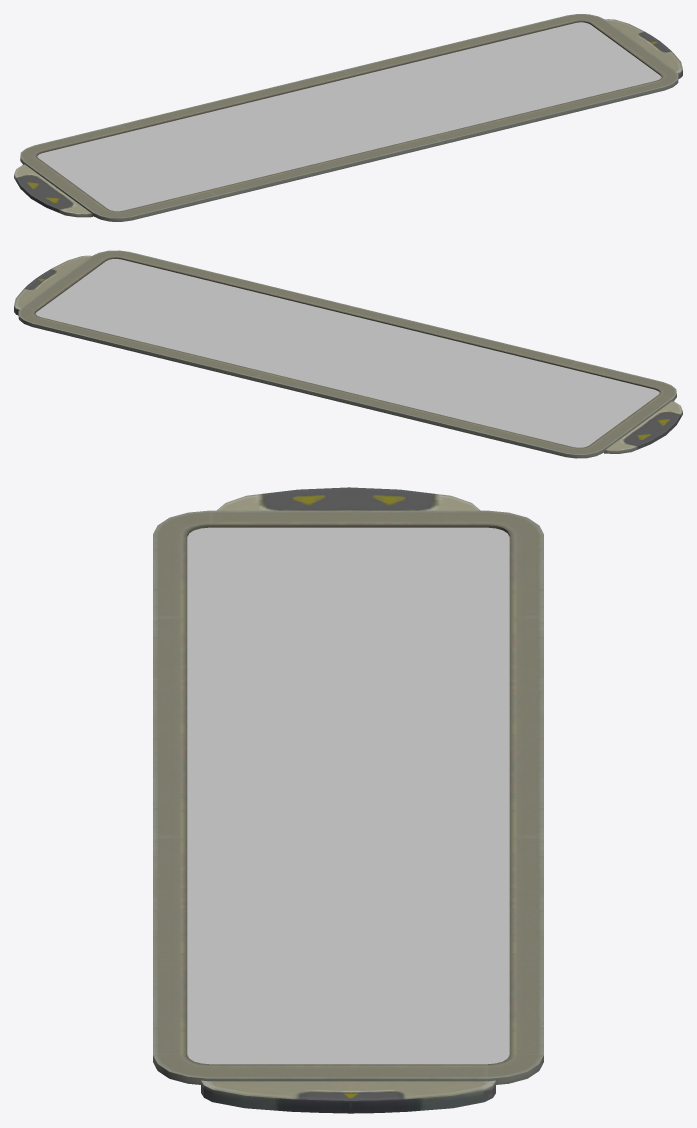
The model's file is pref_sm_garden_line09_lv2.fbx.
3 views of the same model, one above another, from view 1: azimuth 30°, elevation 25°; view 2: azimuth 150°, elevation 25°; view 3: azimuth 270°, elevation 25° (orthographic). The views are drawn at different scales.
Visible parts, largest first — view 1: sm_garden_line09a_lv2, sm_garden_line09_lv2; view 2: sm_garden_line09a_lv2, sm_garden_line09_lv2; view 3: sm_garden_line09a_lv2, sm_garden_line09_lv2.
Part boxes in pixels (x1,y1,x2,y2): sm_garden_line09a_lv2: (37, 22, 661, 211); sm_garden_line09_lv2: (14, 14, 682, 221); sm_garden_line09a_lv2: (35, 259, 659, 447); sm_garden_line09_lv2: (14, 250, 682, 458); sm_garden_line09a_lv2: (187, 527, 509, 1064); sm_garden_line09_lv2: (153, 487, 543, 1113).
Bounding box in the file's own units: 22.41 × 0.2574 × 6.03.
